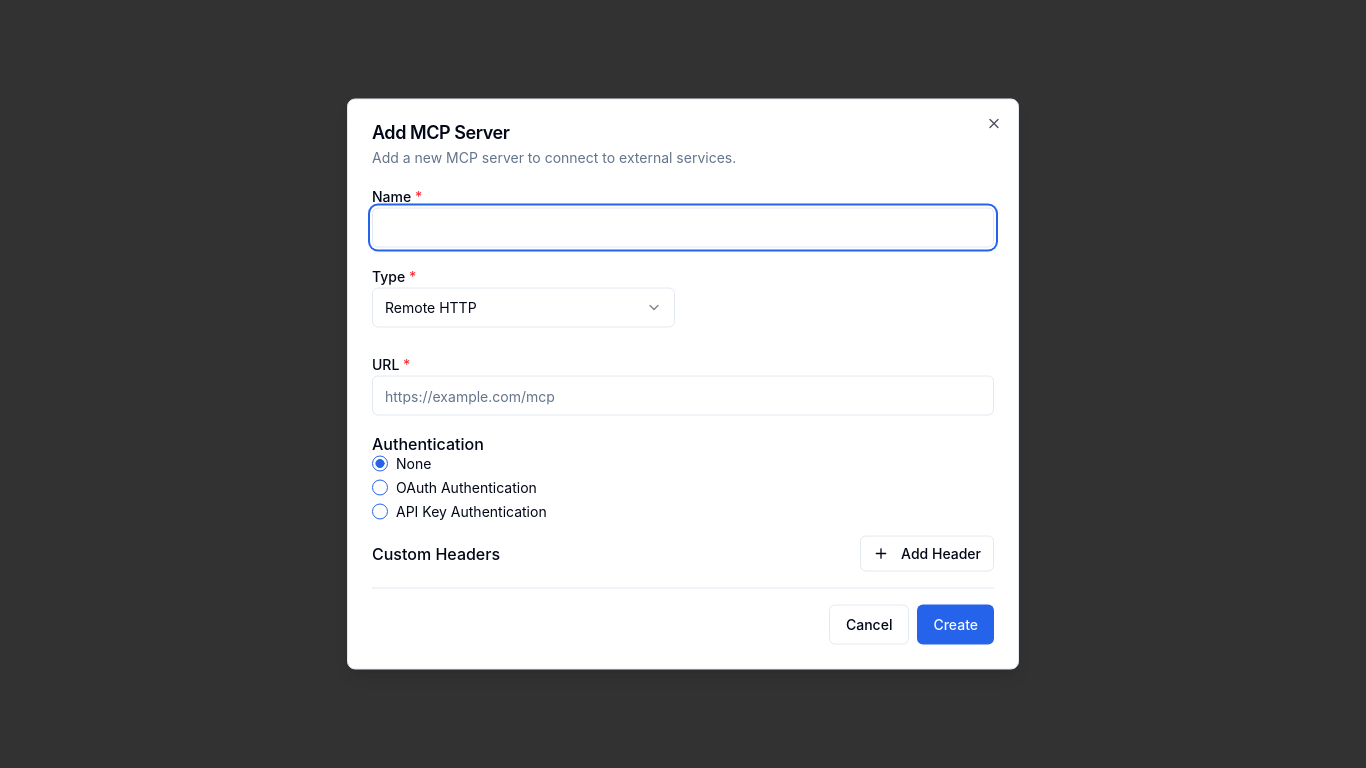
Scenario: McpServerForm › should validate invalid URL format
Check: the dialog is shown, box [347,98,1019,670]
In the field labelled "Name *": x=683, y=228 [372,208,994,248], type "test-server"
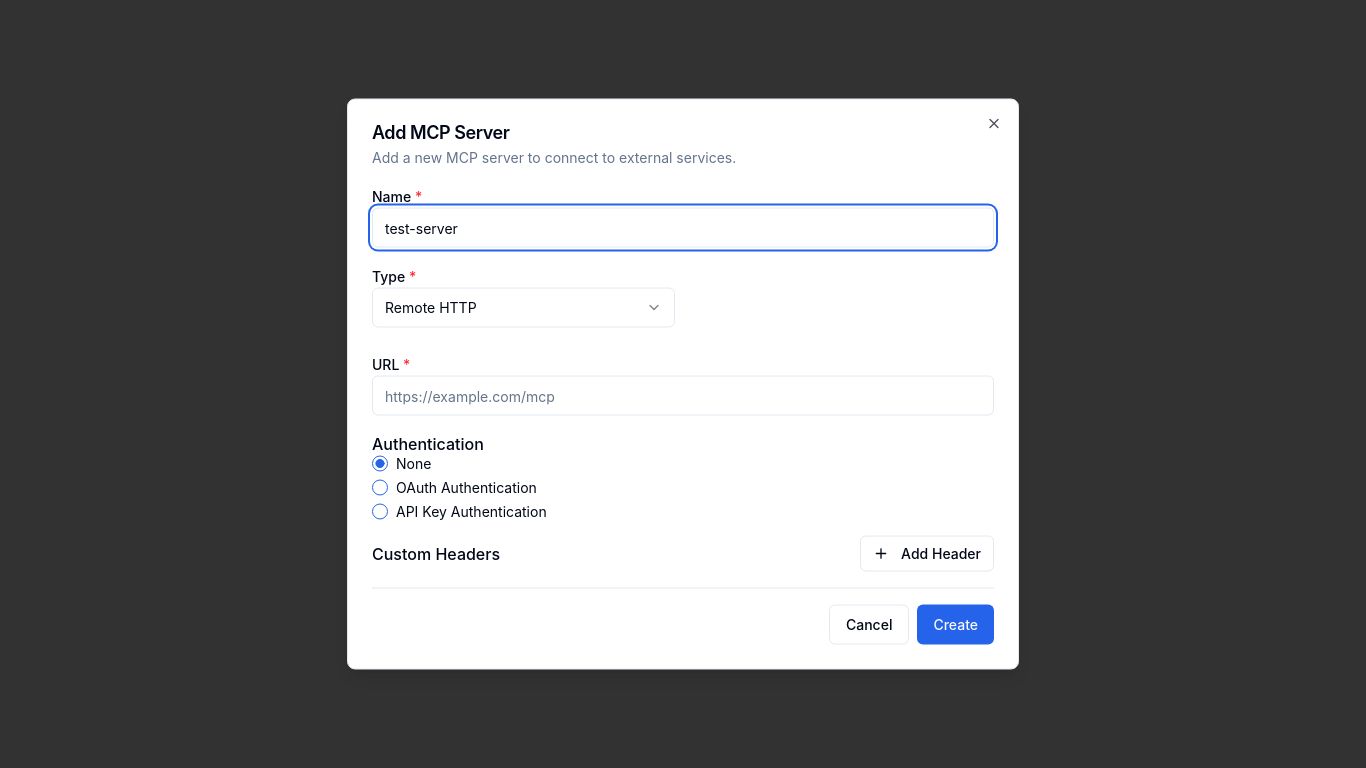
In the field with id "server-url": x=683, y=396 [372,376,994,416], type "invalid-url"
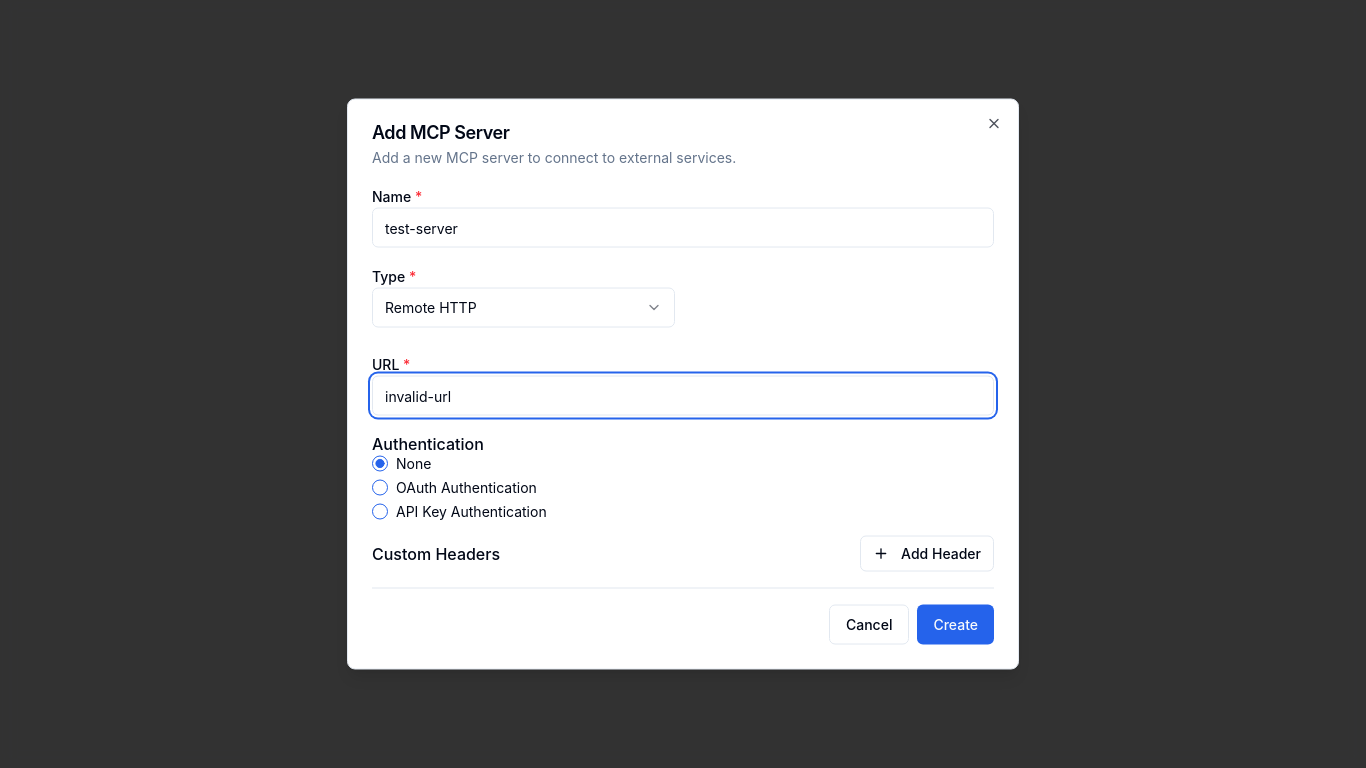
Click the button "Create": x=956, y=624 [917,604,994,644]
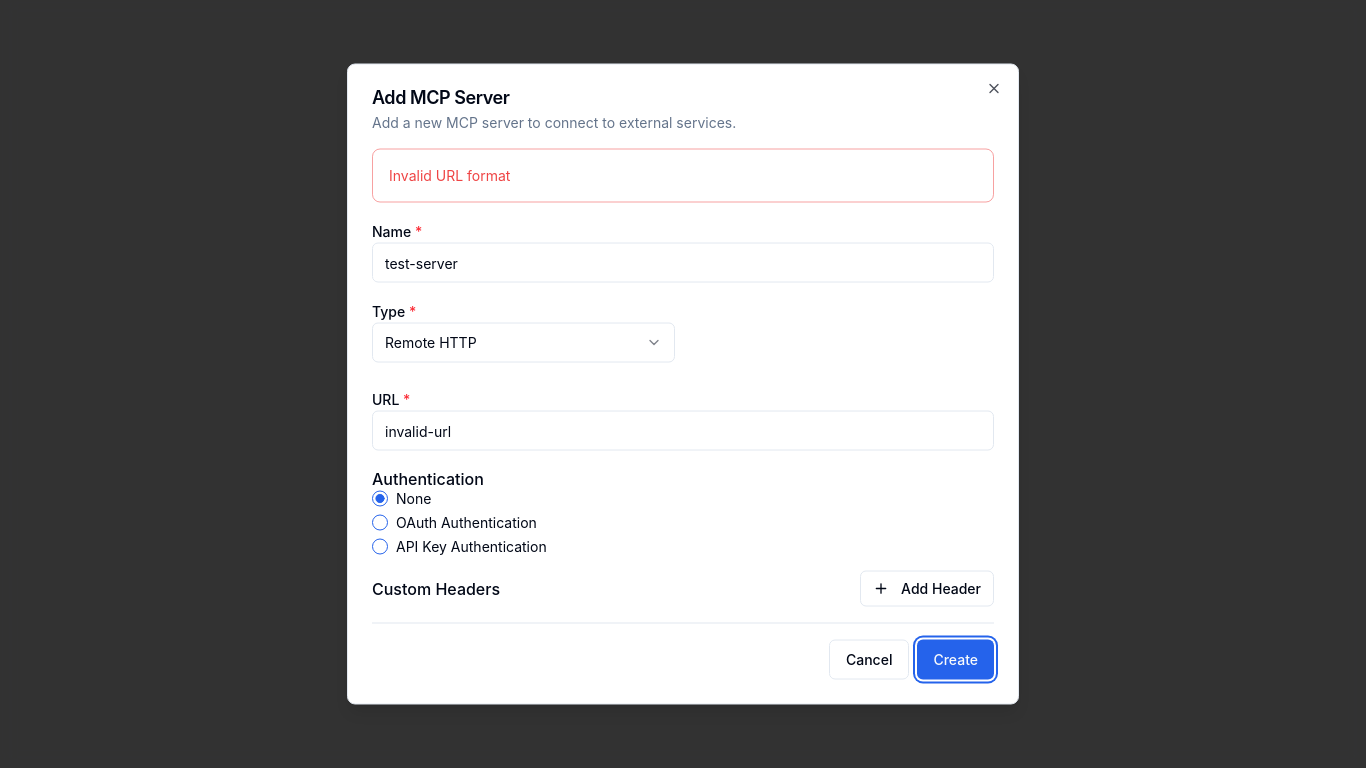
Check: the message reads "Invalid URL format", box [389,166,510,184]
